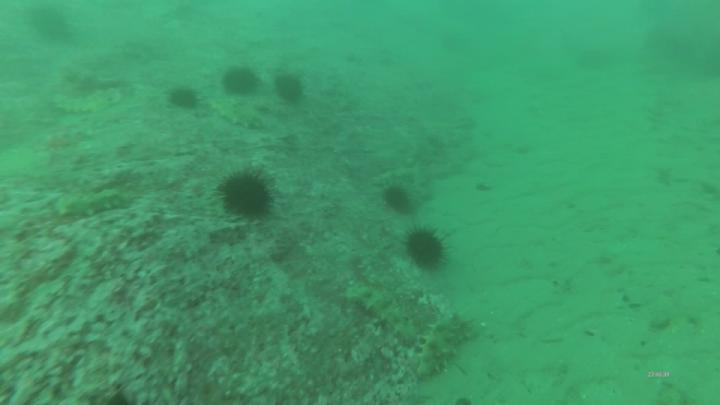echinus: (216, 166, 277, 221), (402, 224, 453, 277), (28, 5, 74, 47), (221, 64, 260, 102), (273, 71, 306, 107), (384, 179, 415, 216), (166, 85, 204, 115)
holothurian: (343, 279, 423, 349), (407, 310, 478, 384), (54, 185, 135, 225), (51, 86, 125, 119), (60, 59, 123, 95), (210, 99, 268, 132), (371, 165, 419, 190)
